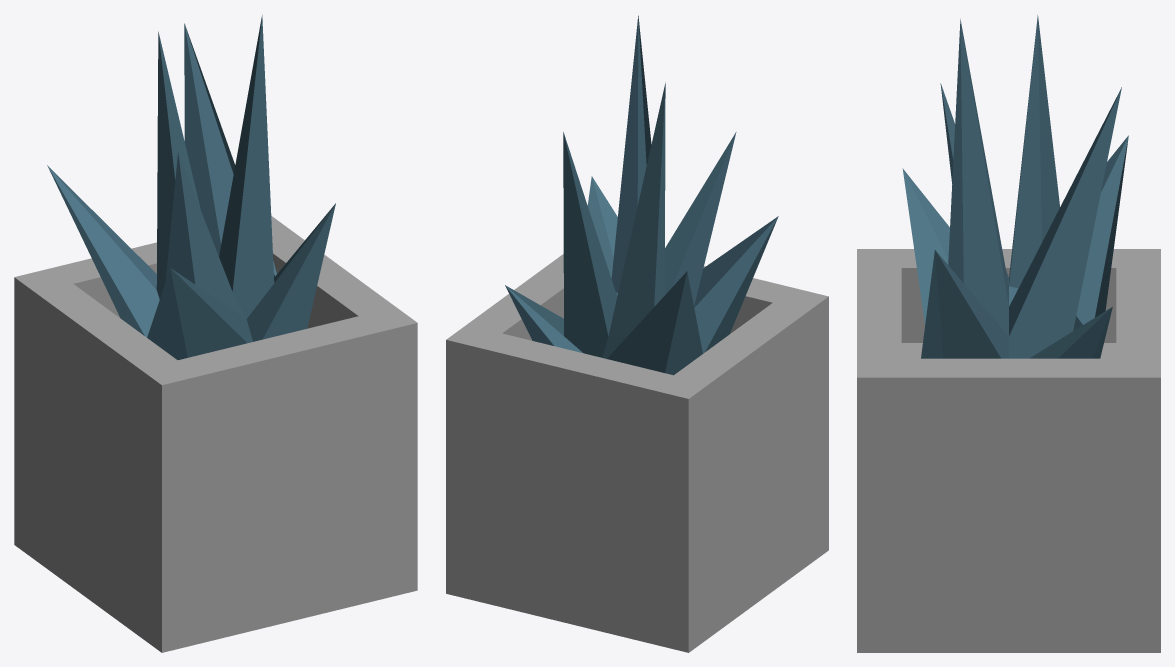
The model's file is SM_Plant.fbx.
The picture shows the model from 3 angles, left to right: view 1: azimuth 30°, elevation 25°; view 2: azimuth 150°, elevation 25°; view 3: azimuth 270°, elevation 25°; orthographic projection. The views are drawn at different scales.
Parts seen in each view (by area): view 1: SM_Plant; view 2: SM_Plant; view 3: SM_Plant.
Boxes of the visible parts, <box> form: SM_Plant: <box>14,15,417,652</box>; SM_Plant: <box>446,15,828,652</box>; SM_Plant: <box>857,15,1160,652</box>.
Size of the model in its own units: 100 by 211 by 100.
